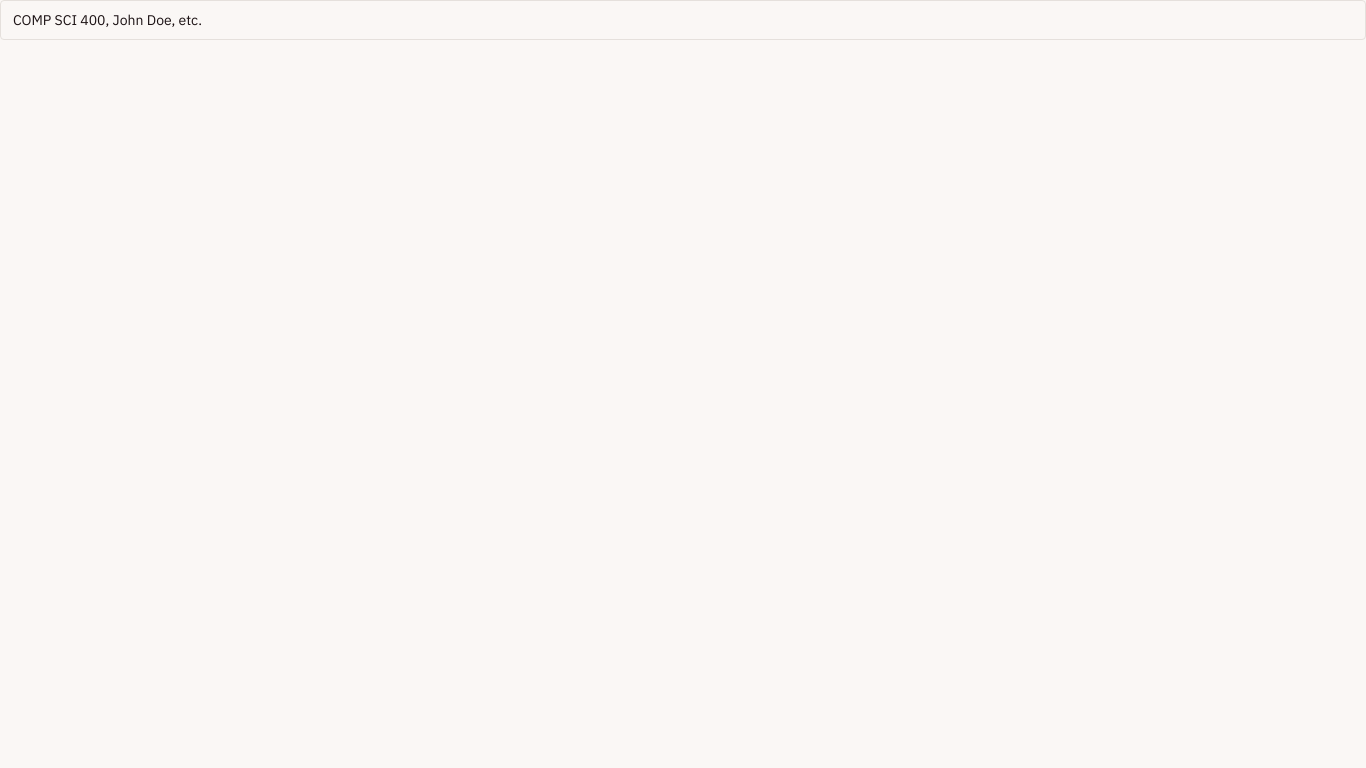
SearchAutocomplete › selecting a suggestion sets the value and runs the search
In the dropdown: [683, 20] box x1=0 y1=0 x2=1365 y2=40, type "comp"
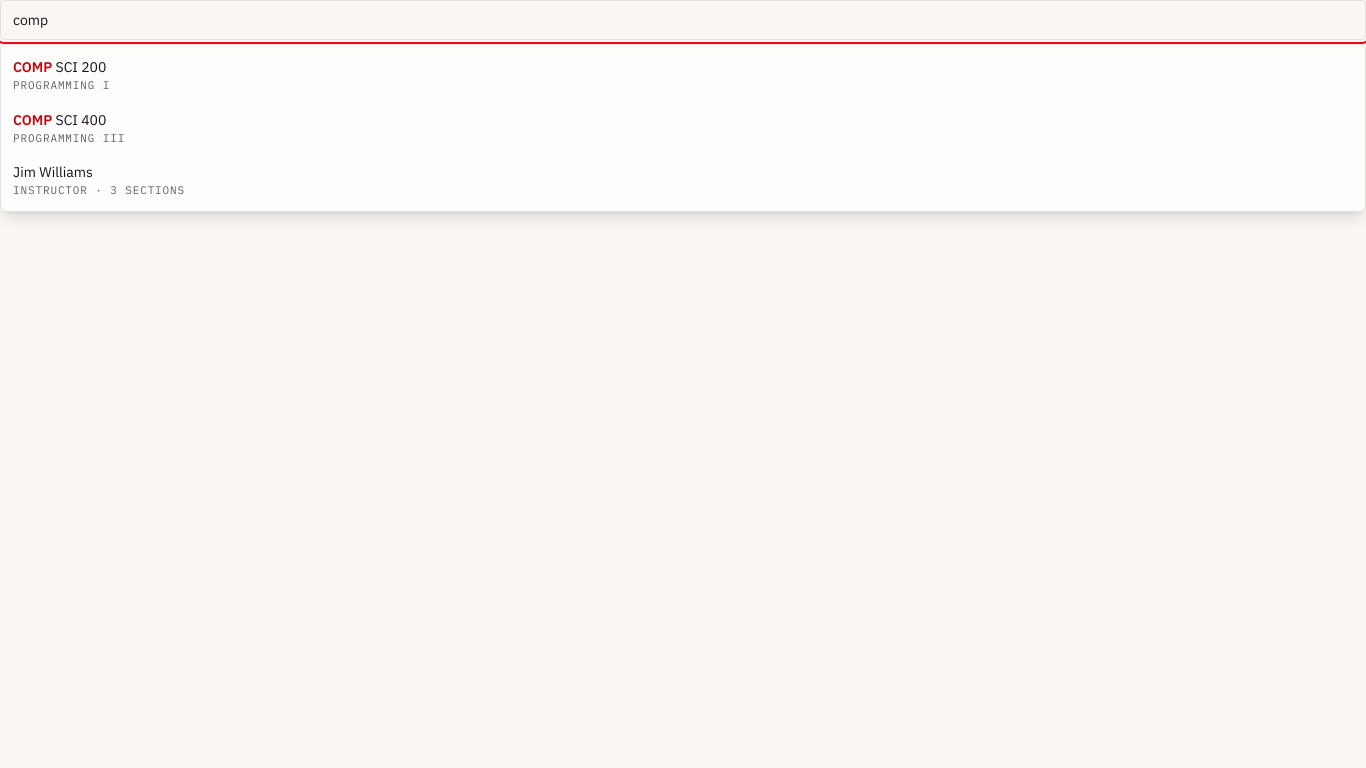
Expected: the option "COMP SCI 200 Programming I" is shown, x1=13 y1=58 x2=110 y2=92
Click the element showing "COMP SCI 400": [60, 120] box x1=13 y1=110 x2=106 y2=128
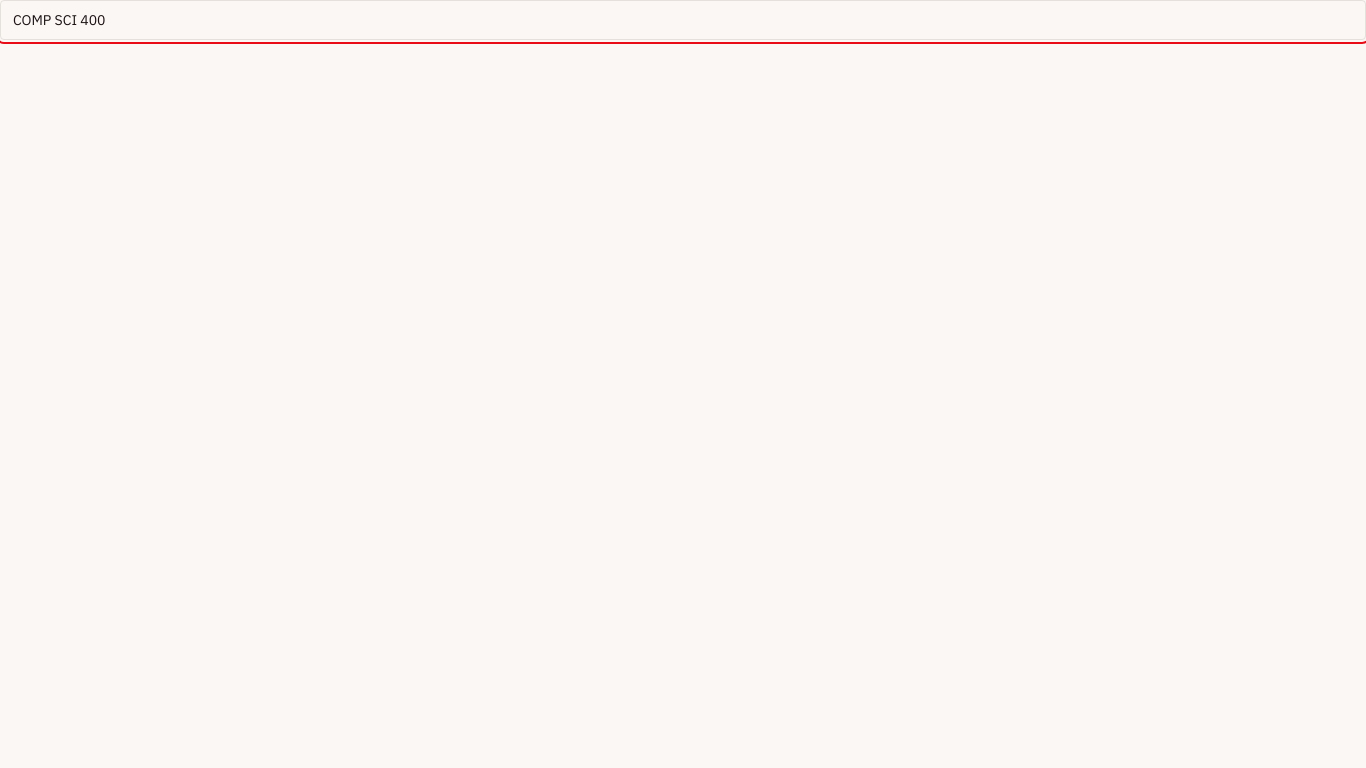
Expected: the dropdown holds "COMP SCI 400", x1=0 y1=0 x2=1365 y2=40
Expected: the list is gone
